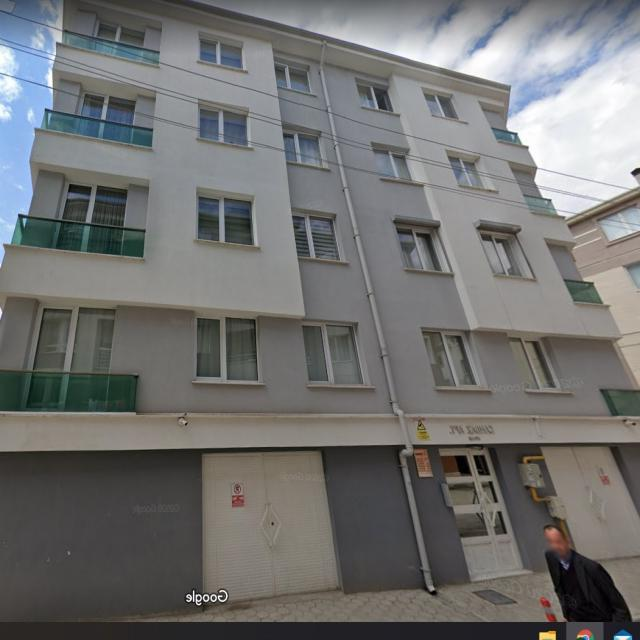Building: (0, 0, 640, 627)
